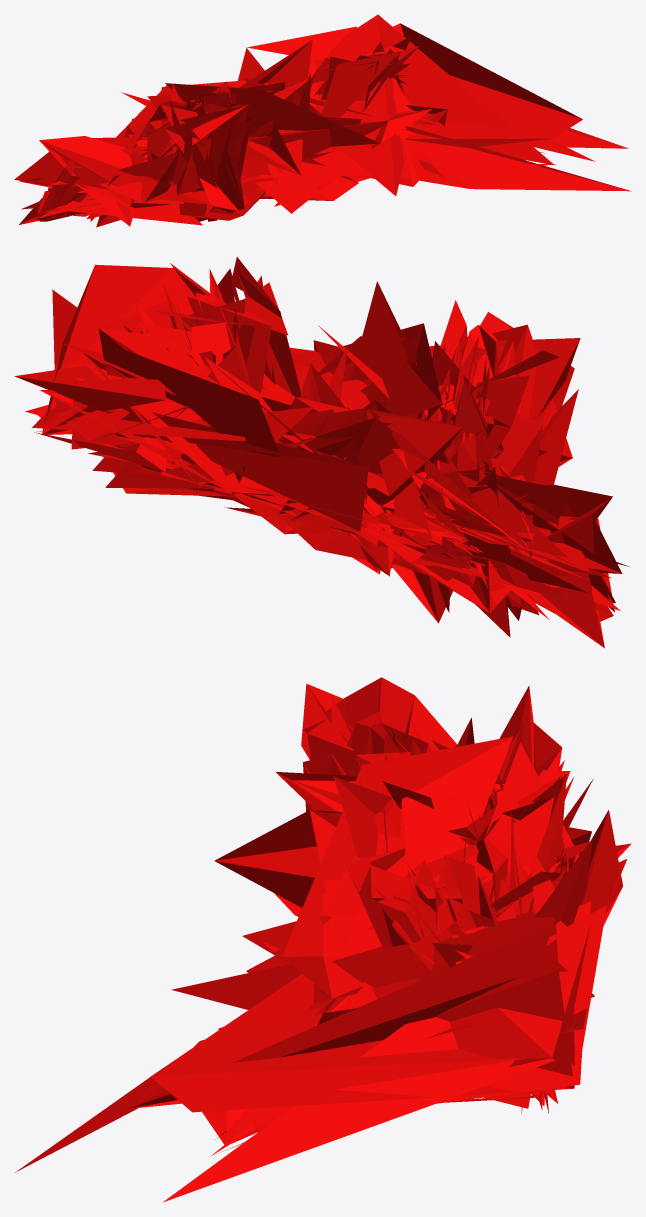
3 views of the same model, one above another, from view 1: azimuth 30°, elevation 25°; view 2: azimuth 150°, elevation 25°; view 3: azimuth 270°, elevation 25° (orthographic). The views are drawn at different scales.
Parts seen in each view (by area): view 1: Renderer Node; view 2: Renderer Node; view 3: Renderer Node.
Boxes of the visible parts, x1,y1,x2,y2 form: Renderer Node: (14,14,631,227); Renderer Node: (14,257,629,648); Renderer Node: (15,677,631,1202).
Bounding box in the file's own units: 0.6845 × 0.2151 × 0.4068.
1 material, 1 textured.
